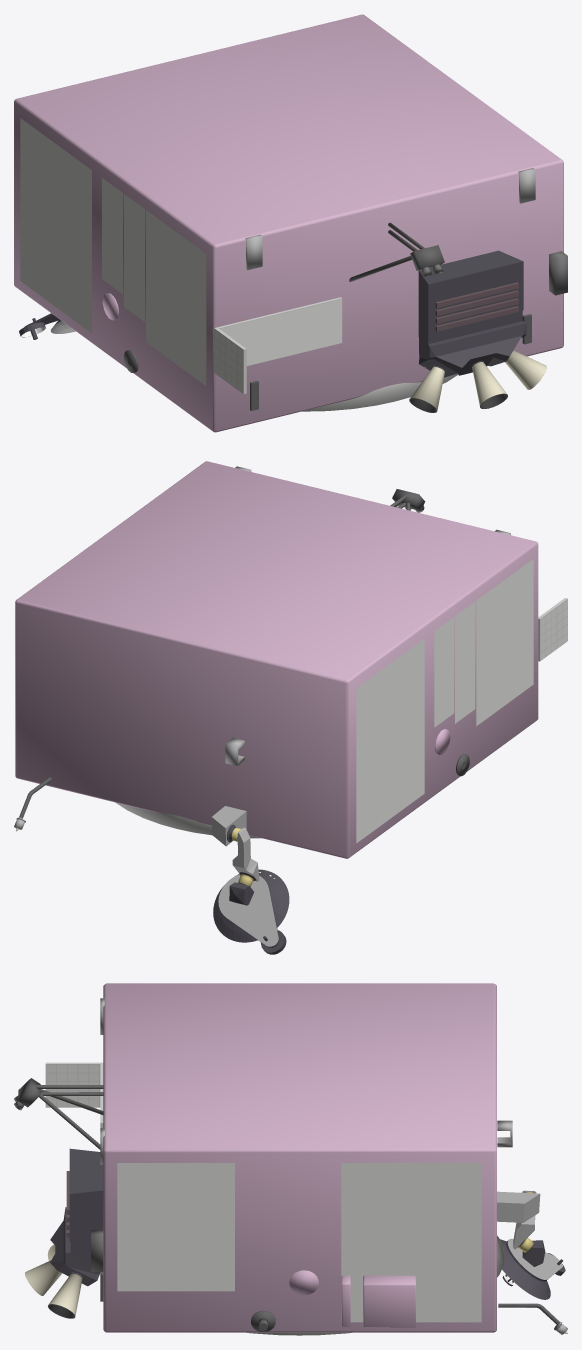
3 views of the same model, one above another, from view 1: azimuth 30°, elevation 25°; view 2: azimuth 150°, elevation 25°; view 3: azimuth 270°, elevation 25° (orthographic). The views are drawn at different scales.
Parts seen in each view (by area): view 1: BUS; view 2: BUS; view 3: BUS.
Part boxes in pixels (x1,y1,x2,y2): BUS: (14,14,567,432); BUS: (14,461,567,954); BUS: (14,983,567,1335).
Bounding box in the file's own units: 2.98 × 2.1 × 3.91.
